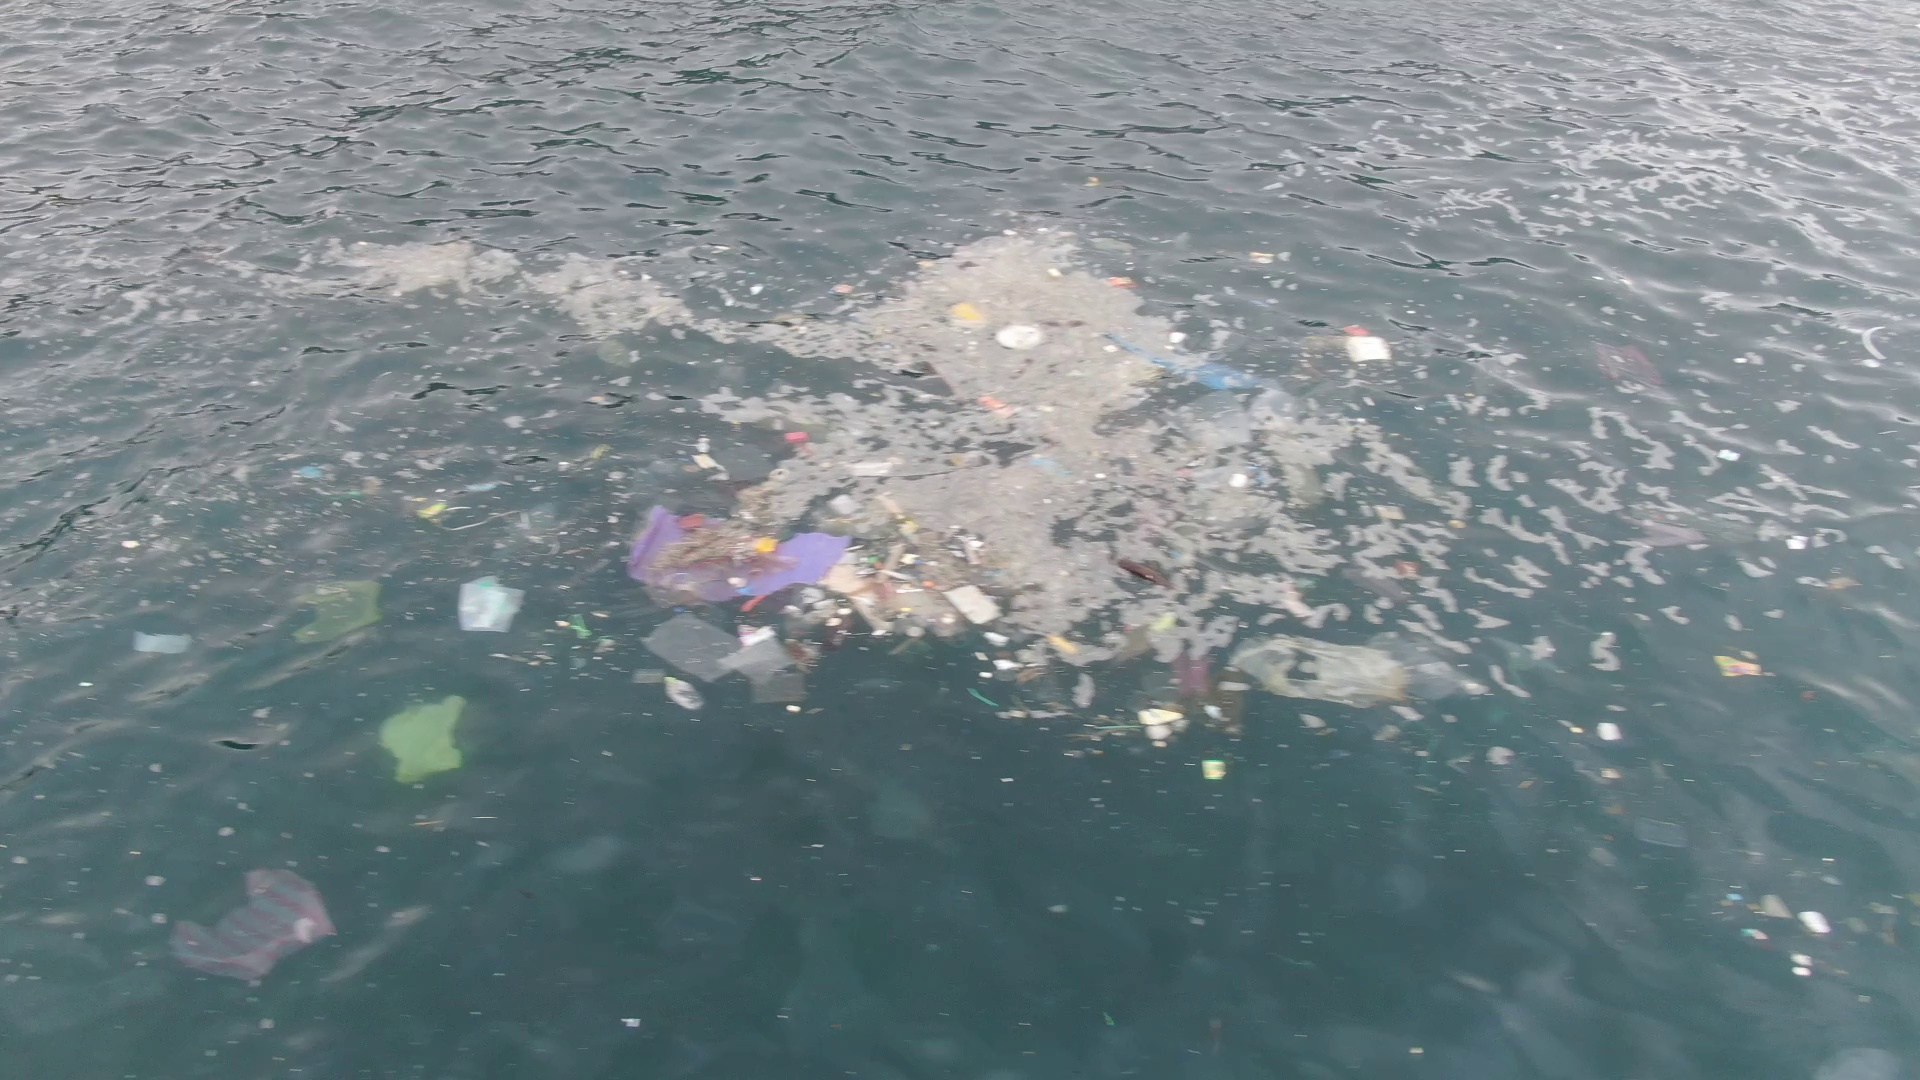bottle: (665, 674, 705, 715)
garbage: (618, 506, 1179, 647), (1232, 633, 1491, 711), (171, 866, 336, 985), (640, 613, 812, 702), (382, 698, 462, 781), (295, 575, 384, 647), (458, 572, 525, 636), (1146, 357, 1265, 386), (1335, 322, 1395, 363), (131, 632, 195, 659), (997, 320, 1040, 352), (1710, 653, 1760, 676), (972, 396, 1019, 419), (1796, 909, 1830, 932), (1393, 556, 1422, 579), (414, 500, 446, 518), (295, 463, 324, 479), (1104, 272, 1131, 285), (829, 282, 856, 295), (781, 427, 806, 438)
